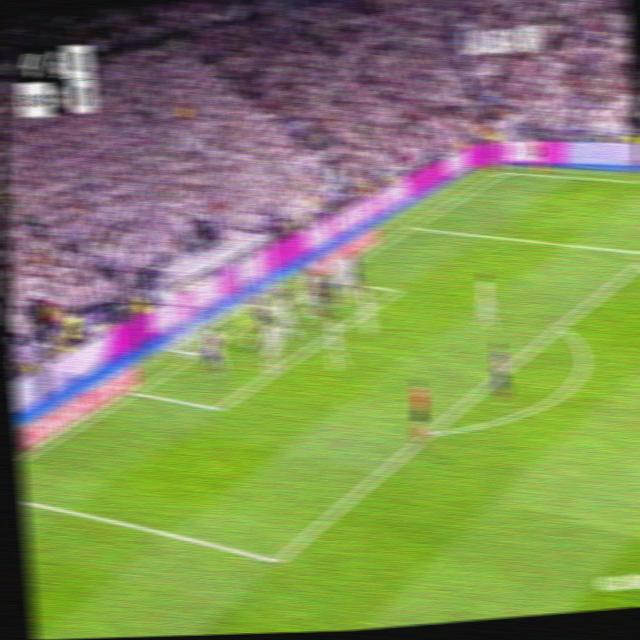bigarea_bottom_inner: (267, 543, 288, 578)
bigarea_top_outter: (405, 219, 419, 233)
bottom_arc_area_intersection: (423, 421, 439, 441)
corner: (496, 166, 509, 175)
smallarea_bottom_inner: (209, 394, 227, 421)
smallarea_bottom_outter: (128, 383, 142, 400)
smallarea_top_inner: (391, 282, 403, 298)
top_arc_area_intersection: (552, 315, 568, 336)
